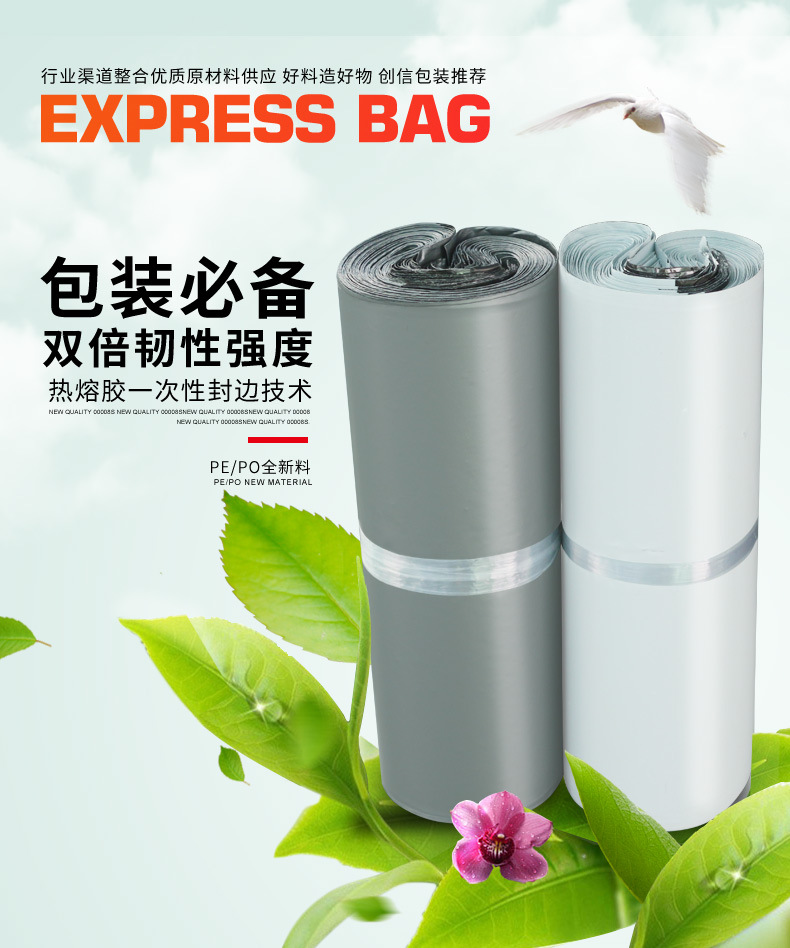塑料袋: (327, 217, 764, 830)
